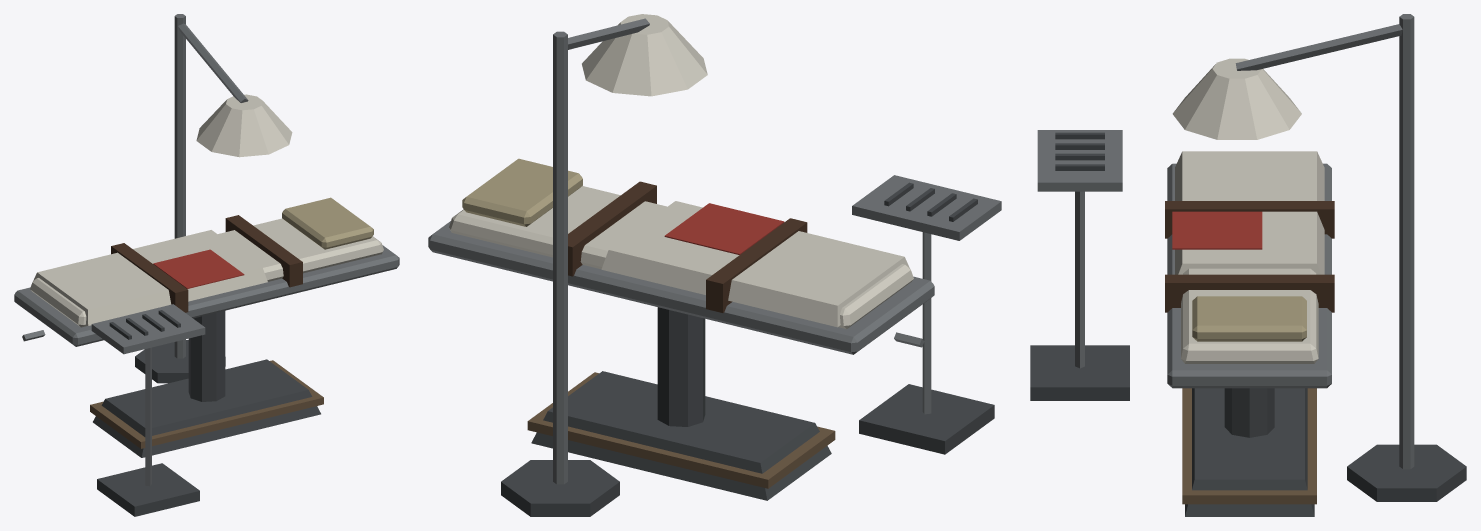
File: clinic_surgical_table.glb
The picture shows the model from 3 angles, left to right: view 1: azimuth 30°, elevation 25°; view 2: azimuth 150°, elevation 25°; view 3: azimuth 270°, elevation 25°; orthographic projection. The views are drawn at different scales.
Visible parts, largest first — view 1: clinic_table; view 2: clinic_table; view 3: clinic_table.
Boxes of the visible parts, left/top/right/bottom form: clinic_table: left=14, top=14, right=399, bottom=516; clinic_table: left=428, top=14, right=1001, bottom=516; clinic_table: left=1030, top=14, right=1466, bottom=516.
Bounding box in the file's own units: 2.12 × 2.05 × 1.75.
